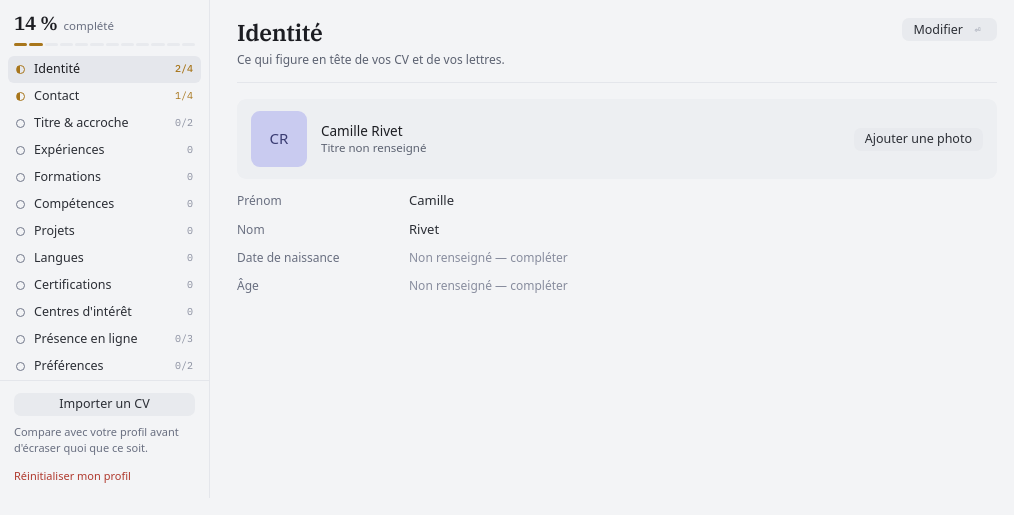
écran Profil — sections › expose chaque section comme un véritable onglet, un seul panneau à la fois
What coordinates should you click on to do the following:
click the tab "Contact 1/4"
I would click on:
 (104, 96)
Its box is [8,83,201,110].
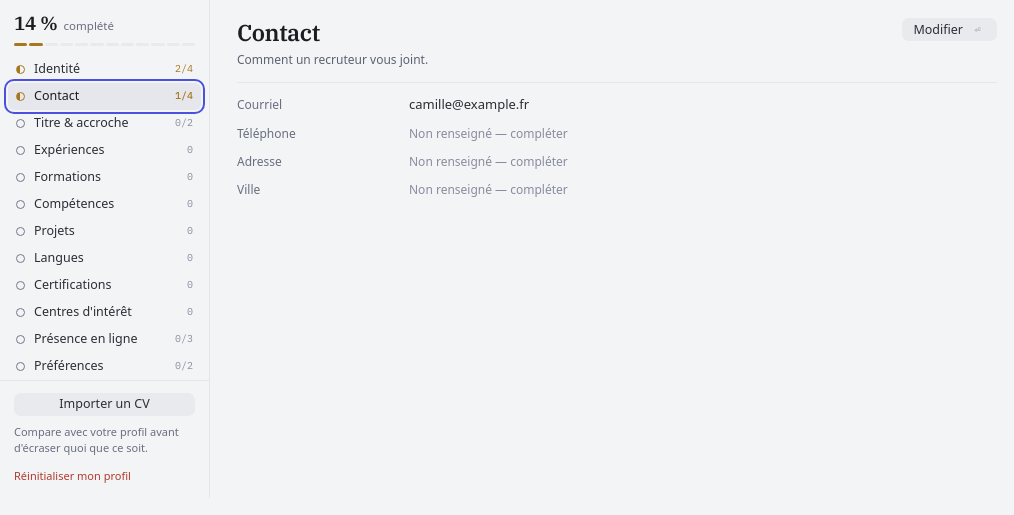
Check: the number of panels is 1, box [237,18,997,199]
Check: the heading "Contact" is shown, box [237,17,320,47]
Check: the text "camille@example.fr" is shown, box [409,95,529,113]
